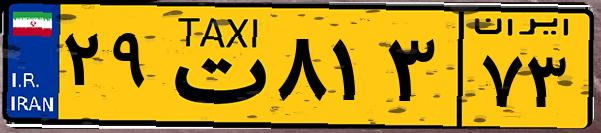1: (330, 28, 385, 110)
2: (57, 26, 110, 100)
3: (385, 28, 445, 110), (525, 38, 570, 115)
7: (475, 38, 525, 113)
8: (270, 28, 330, 110)
9: (110, 28, 158, 98)
ت: (158, 12, 270, 120)
